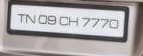0: (38, 14, 48, 25), (109, 19, 120, 29)
7: (99, 18, 109, 29), (81, 17, 91, 27), (91, 17, 100, 28)
9: (47, 15, 57, 26)
C: (59, 16, 69, 26)
H: (68, 17, 79, 27)
N: (25, 13, 37, 25)
T: (17, 12, 26, 24)
